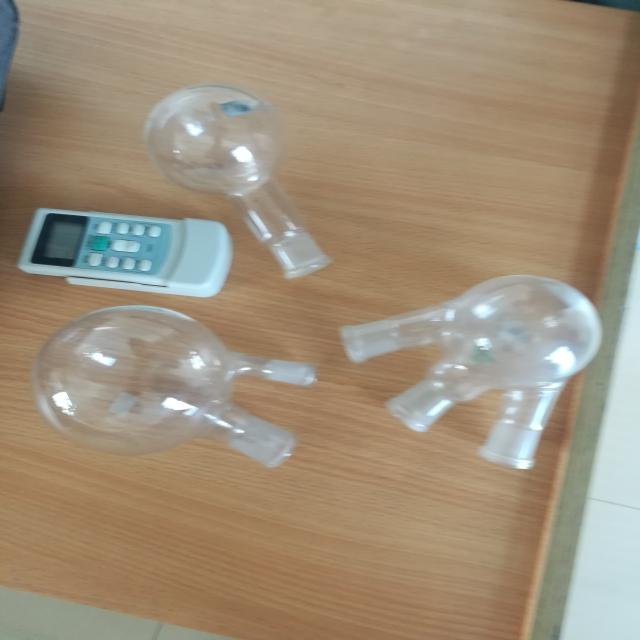Round_Bottom_Flask_Borosilicate_Glass_1_Neck: (125, 54, 351, 286)
Round_Bottom_Flask_Borosilicate_Glass_2_Neck: (16, 291, 330, 498)
Round_Bottom_Flask_Borosilicate_Glass_3_Neck: (329, 266, 640, 486)
